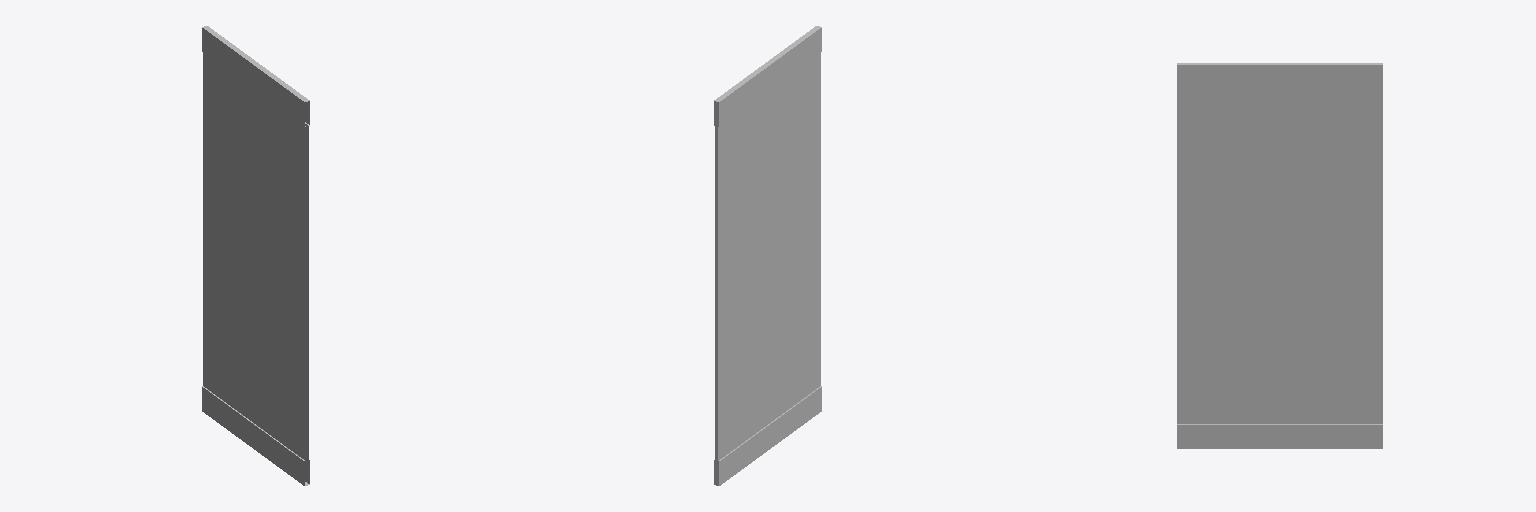
Rendered from MultimediaDoor.obj.
The picture shows the model from 3 angles: view 1: azimuth 30°, elevation 25°; view 2: azimuth 150°, elevation 25°; view 3: azimuth 270°, elevation 25°; orthographic projection.
Parts seen in each view (by area): view 1: Object007; view 2: Object007; view 3: Object007.
Boxes of the visible parts, x1=… form: Object007: x1=202, y1=26, x2=309, y2=485; Object007: x1=714, y1=26, x2=821, y2=485; Object007: x1=1177, y1=63, x2=1382, y2=448.
Bounding box in the file's own units: 4.96 × 326 × 158.